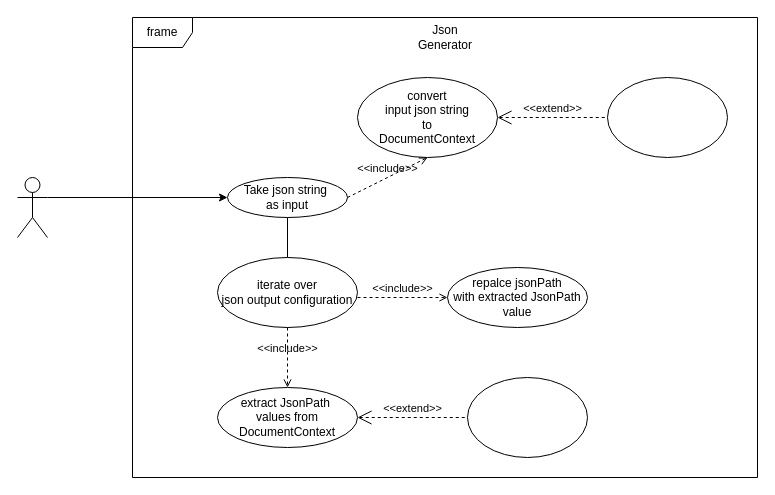
Some shapes in this 775 by 495 pixel diagram are drawn without their labels. Each missing label, with the centre of its shape:
"Api" belongs at pixel 32 207.
"error if invalild json string" belongs at pixel 667 117.
"error if JsonPath does not exists." belongs at pixel 527 417.
